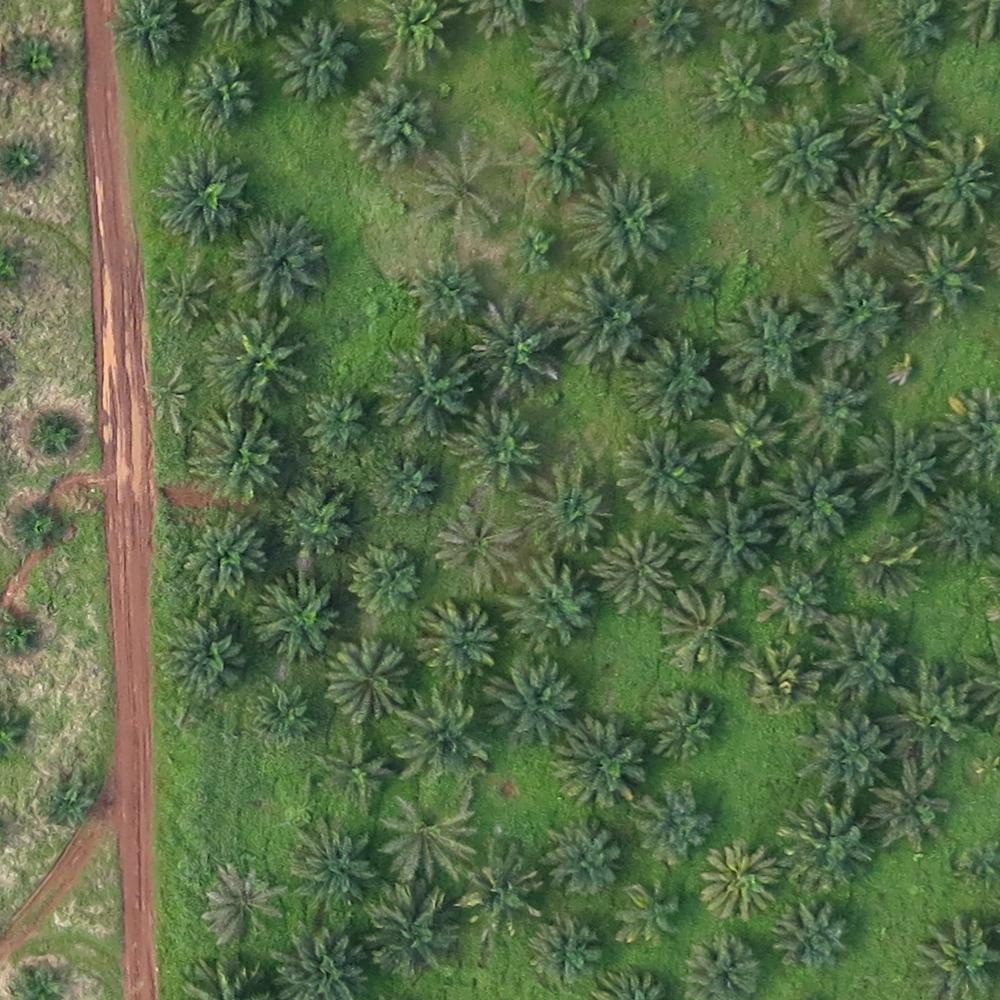not plam: (5, 848, 94, 936), (101, 868, 191, 955), (254, 119, 336, 199), (95, 779, 175, 860), (98, 419, 175, 499), (183, 781, 261, 859), (680, 168, 759, 245), (73, 510, 152, 585), (715, 743, 792, 819), (46, 241, 116, 321), (127, 689, 198, 767), (316, 294, 393, 364), (335, 208, 408, 281), (41, 155, 112, 229), (35, 599, 110, 669), (455, 54, 529, 124), (31, 333, 108, 400), (610, 90, 682, 161), (37, 684, 109, 750), (910, 325, 980, 392), (860, 864, 932, 929), (46, 77, 116, 143), (591, 629, 658, 696), (485, 769, 553, 833), (914, 585, 980, 650), (547, 393, 611, 454), (118, 78, 177, 138), (53, 7, 108, 62)
